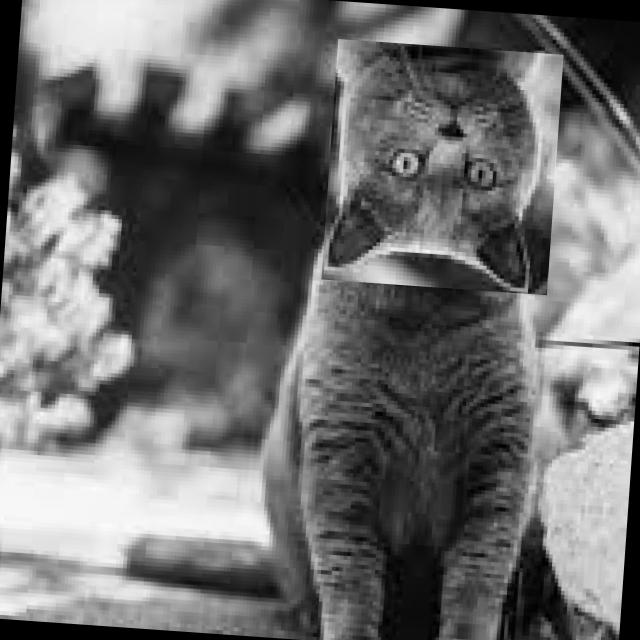british: (321, 38, 563, 294)
